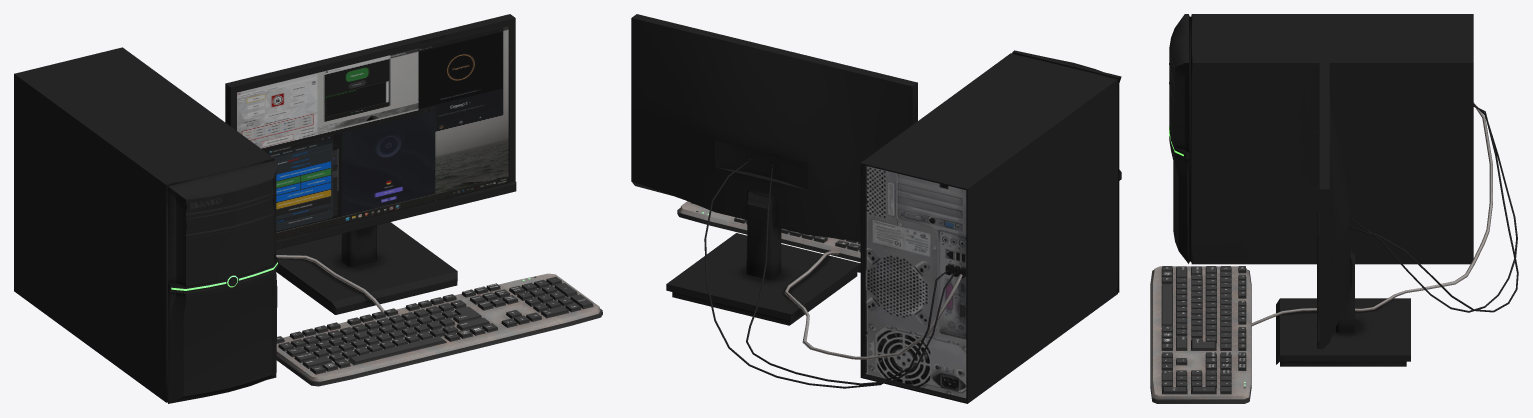
The model's file is personal_computer.glb.
3 views of the same model, side by side, from view 1: azimuth 30°, elevation 25°; view 2: azimuth 150°, elevation 25°; view 3: azimuth 270°, elevation 25° (orthographic). The views are drawn at different scales.
Parts seen in each view (by area): view 1: Cube_PC_0, Cube_Screen_0, Cube_Keyboard_0; view 2: Cube_PC_0, Cube_Keyboard_0; view 3: Cube_PC_0, Cube_Keyboard_0.
Part boxes in pixels (box(x1,y1,x2,y2)): Cube_PC_0: box(14, 14, 516, 403); Cube_Screen_0: box(237, 26, 508, 238); Cube_Keyboard_0: box(276, 255, 602, 386); Cube_PC_0: box(631, 14, 1121, 403); Cube_Keyboard_0: box(677, 201, 962, 359); Cube_PC_0: box(1169, 14, 1518, 366); Cube_Keyboard_0: box(1150, 102, 1492, 403).
Bounding box in the file's own units: 1.36 × 0.7227 × 1.12.
4 materials, 3 textured.
